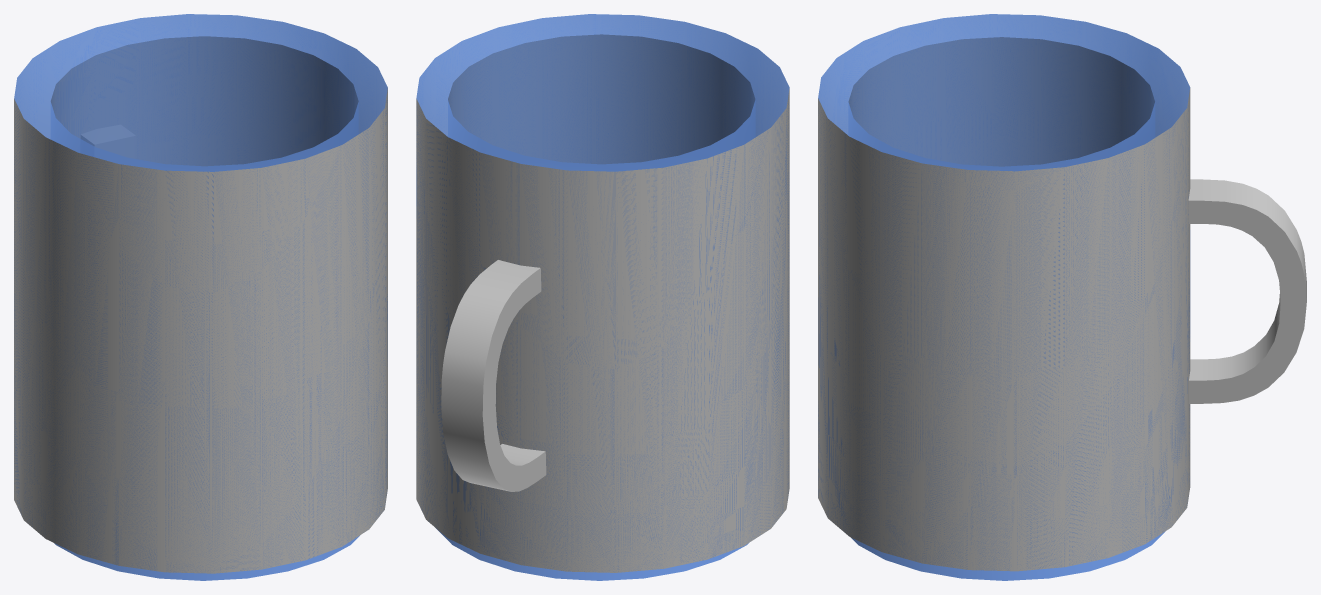
3 views of the same model, side by side, from view 1: azimuth 30°, elevation 25°; view 2: azimuth 150°, elevation 25°; view 3: azimuth 270°, elevation 25° (orthographic).
Parts seen in each view (by area): view 1: mesh4_mesh4-geometry, mesh1_mesh1-geometry; view 2: mesh4_mesh4-geometry, mesh1_mesh1-geometry; view 3: mesh4_mesh4-geometry, mesh1_mesh1-geometry.
Boxes of the visible parts, left/top/right/bottom form: mesh4_mesh4-geometry: left=14, top=14, right=387, bottom=580; mesh1_mesh1-geometry: left=81, top=125, right=135, bottom=158; mesh4_mesh4-geometry: left=416, top=14, right=789, bottom=580; mesh1_mesh1-geometry: left=441, top=260, right=546, bottom=491; mesh4_mesh4-geometry: left=818, top=14, right=1190, bottom=580; mesh1_mesh1-geometry: left=1188, top=179, right=1306, bottom=403.
Size of the model in its own units: 0.4856 by 0.5979 by 0.6378.
